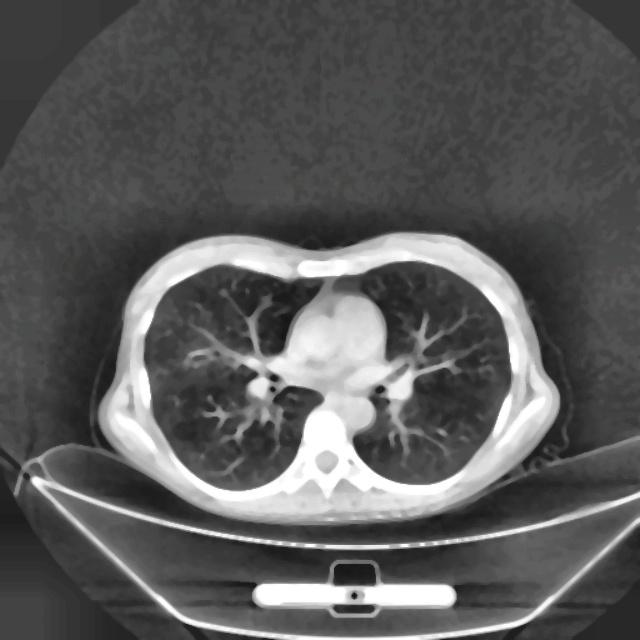covid: (96, 229, 561, 526)
